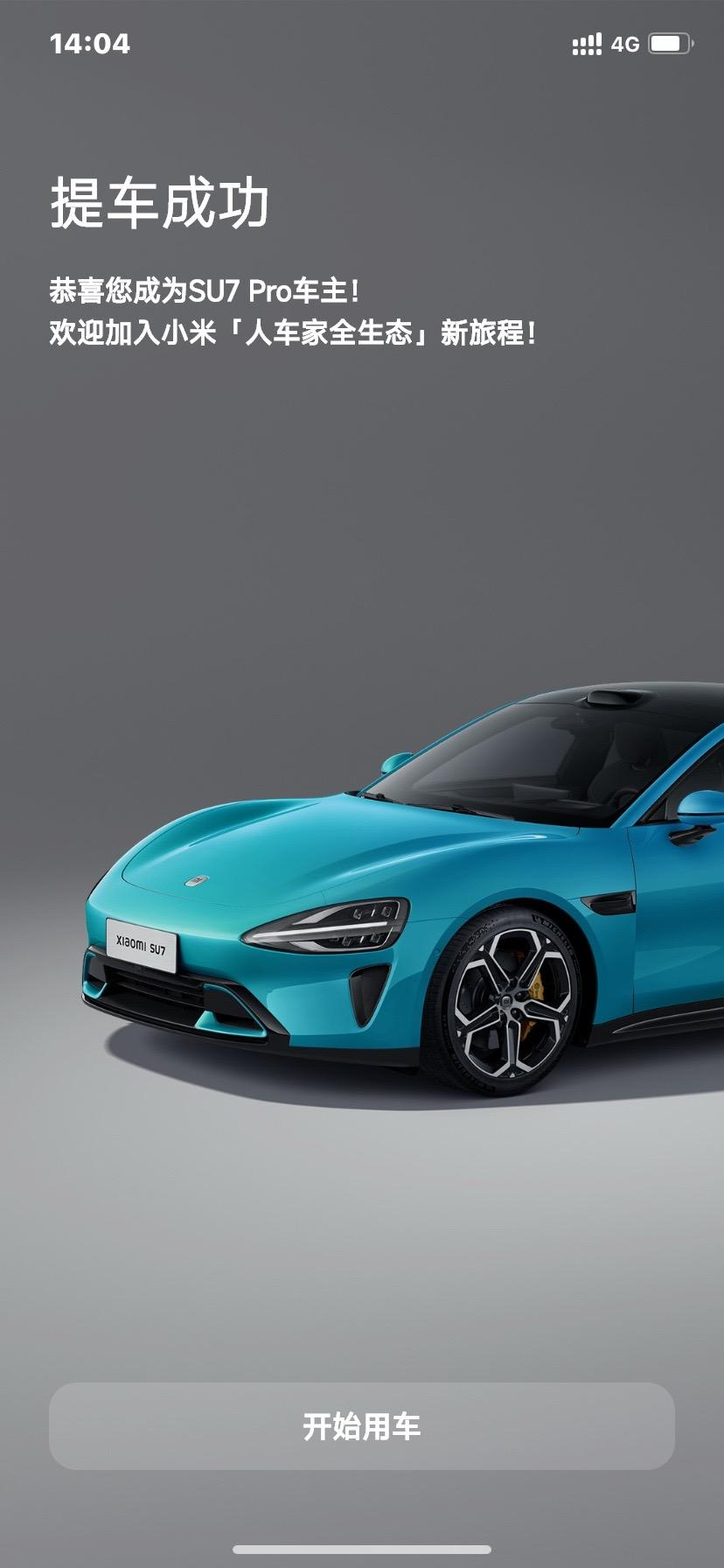other: (95, 662, 724, 1096)
